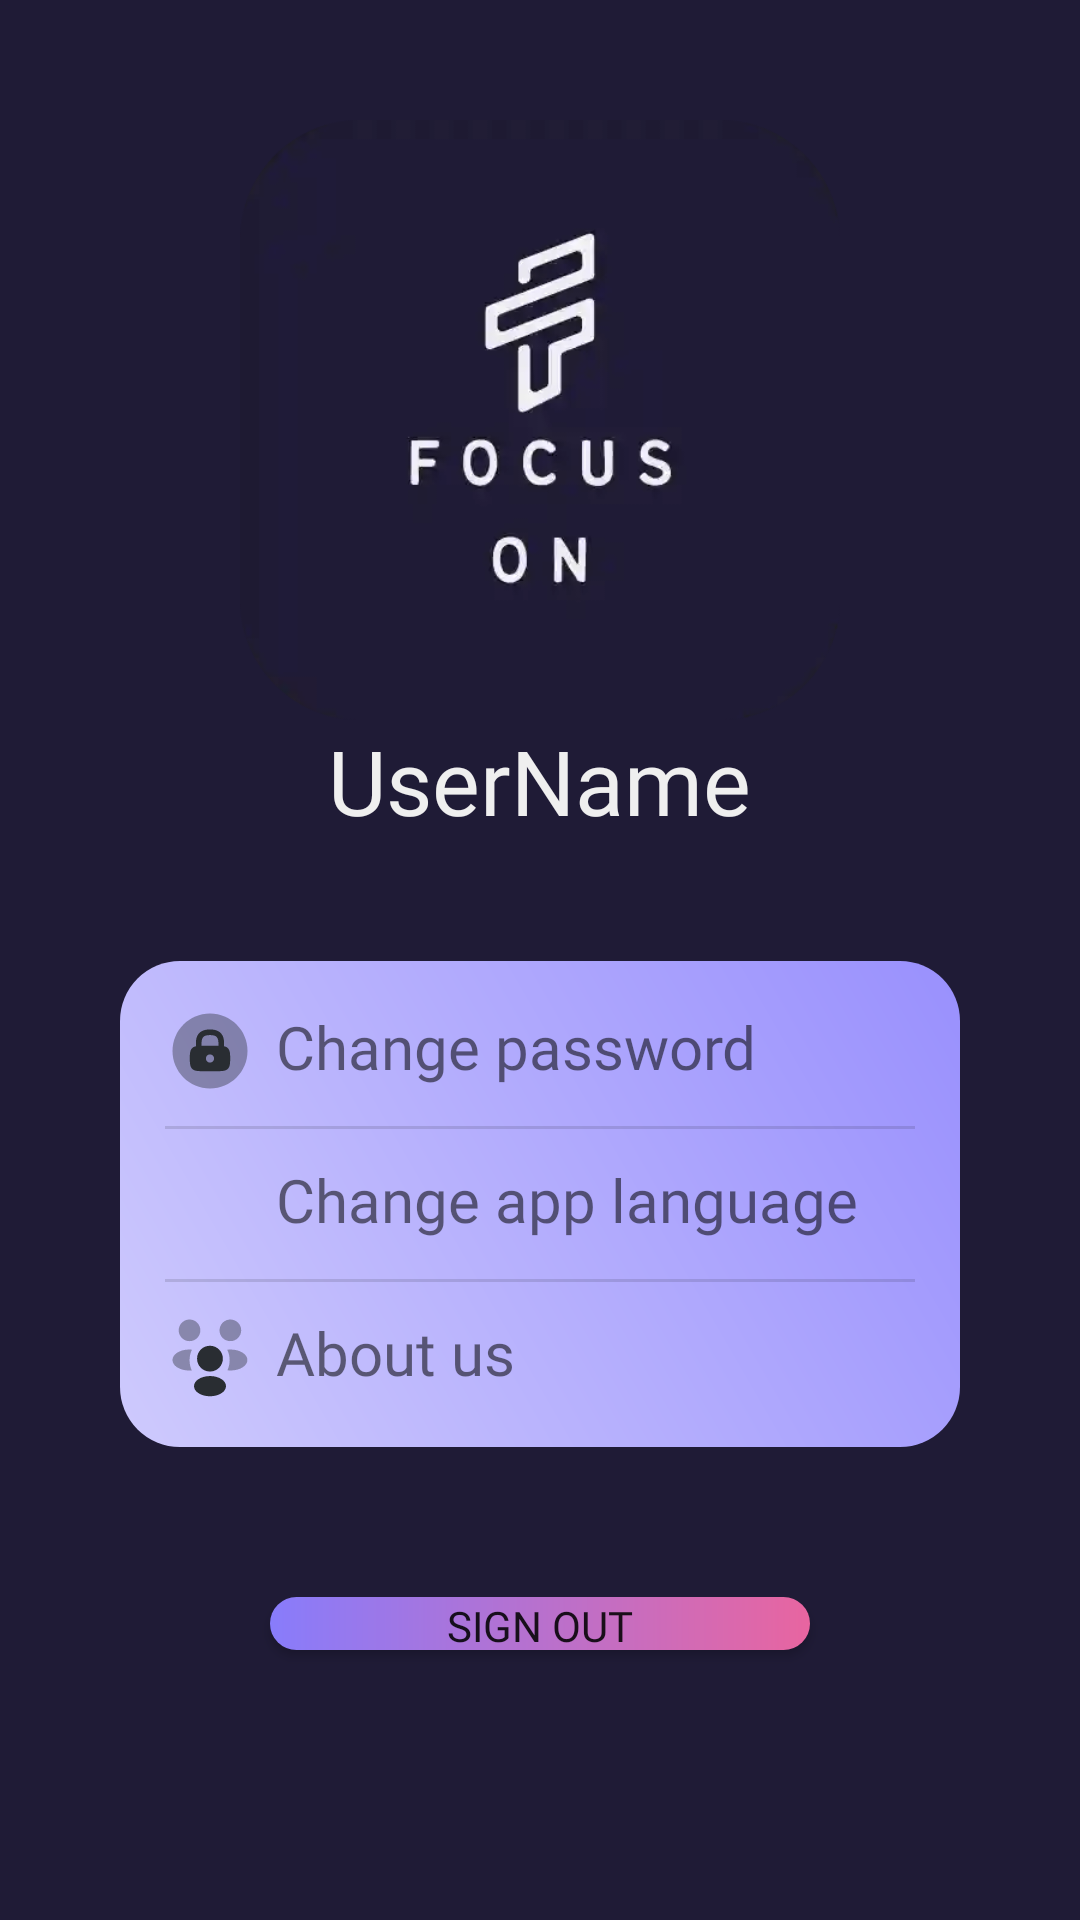

Icons on this 1080 × 1920 Android screen, each with the point to tap as (x,y):
people: (209,1358)
